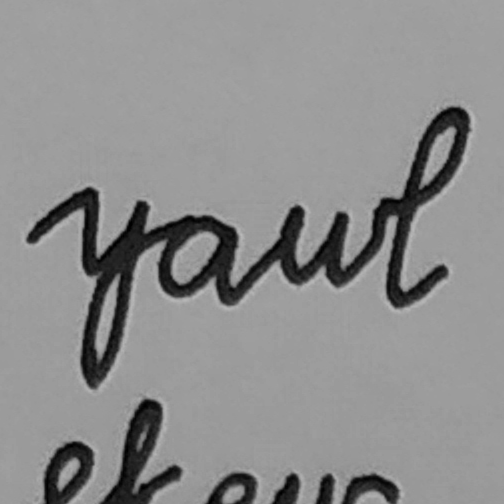a: (156, 206, 245, 317)
l: (378, 97, 475, 314)
w: (269, 192, 396, 290)
y: (68, 180, 154, 394)
